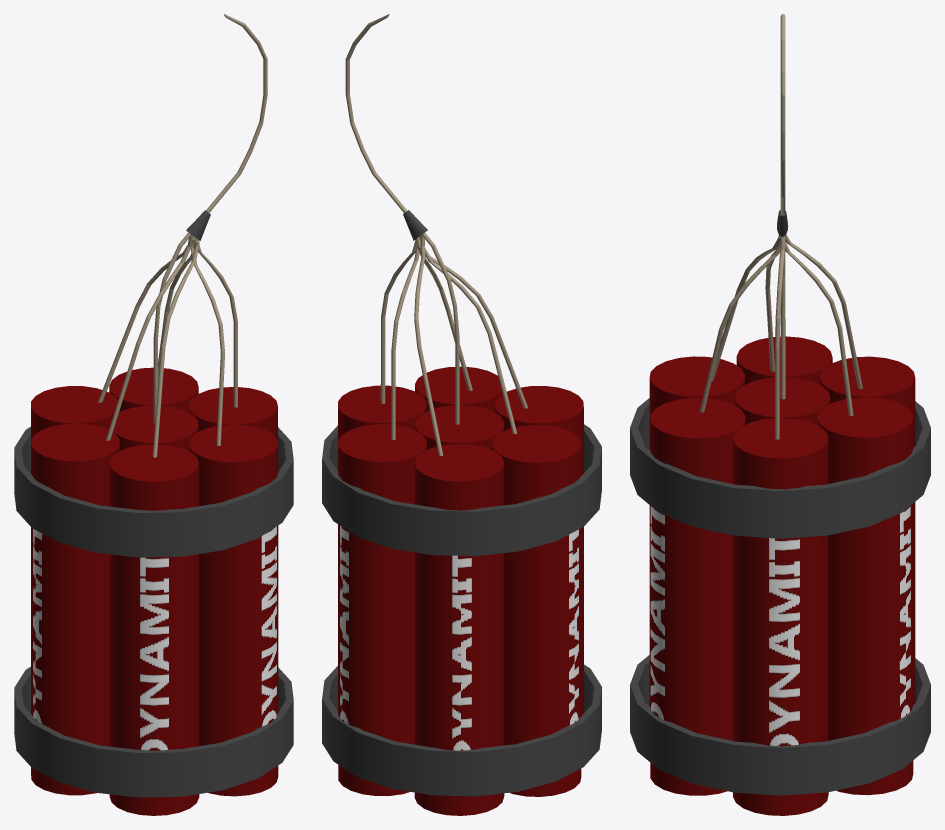
The model's file is Dynamite.fbx.
3 renders of one model, left to right at view 1: azimuth 30°, elevation 25°; view 2: azimuth 150°, elevation 25°; view 3: azimuth 270°, elevation 25°, orthographic. The views are drawn at different scales.
Visible parts, largest first — view 1: pCylinder16; view 2: pCylinder16; view 3: pCylinder16.
Boxes of the visible parts, x1=… form: pCylinder16: x1=14, y1=14, x2=293, y2=815; pCylinder16: x1=322, y1=14, x2=601, y2=815; pCylinder16: x1=630, y1=14, x2=930, y2=815.
Bounding box in the file's own units: 3.07 × 8.76 × 3.07.
